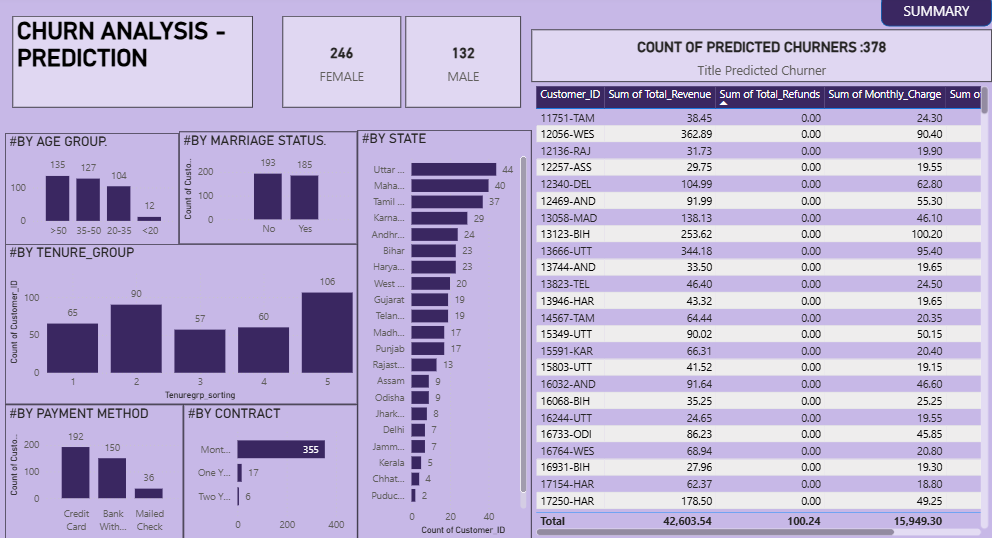

What the dashboard file says about the page in this screenshot:
{"tool":"powerbi","page":{"name":"Churn Prediction","canvas":[1280,720],"ordinal":1},"visuals":[{"type":"tableEx","fields":{"Values":["Predictions.Customer_ID","Sum(Predictions.Total_Revenue)","Sum(Predictions.Total_Refunds)","Sum(Predictions.Monthly_Charge)","Sum(Predictions.Number_of_Referrals)"]},"box":[686,109.6,580.2,576.4],"z":1},{"type":"card","fields":{"Values":["db_table_measures.Title Predicted Churner"]},"box":[686,43.5,580.2,66.1],"z":2},{"type":"card","fields":{"Values":["db_table_measures.Count Predicted Churners"]},"box":[372.3,26.5,149.3,115.3],"z":3},{"type":"card","fields":{"Values":["db_table_measures.Count Predicted Churners"]},"box":[527.2,26.5,145.5,115.3],"z":4},{"type":"clusteredColumnChart","title":"#BY AGE GROUP.","fields":{"Category":["mapping_Agegrp.Age Group"],"Y":["CountNonNull(Predictions.Customer_ID)"]},"box":[22.7,173.9,219.2,141.7],"z":5},{"type":"clusteredColumnChart","title":"#BY MARRIAGE STATUS.","fields":{"Category":["Predictions.Married"],"Y":["CountNonNull(Predictions.Customer_ID)"]},"box":[241.9,172,224.9,141.7],"z":6},{"type":"clusteredColumnChart","title":"#BY TENURE_GROUP","fields":{"Category":["mapping_Tenuregrp.Tenuregrp_sorting"],"Y":["CountNonNull(Predictions.Customer_ID)"]},"box":[22.7,313.7,444.1,202.2],"z":7},{"type":"clusteredColumnChart","title":"#BY PAYMENT METHOD","fields":{"Category":["Predictions.Payment_Method"],"Y":["CountNonNull(Predictions.Customer_ID)"]},"box":[22.7,515.9,224.9,170.1],"z":8},{"type":"clusteredBarChart","title":"#BY CONTRACT","fields":{"Category":["Predictions.Contract"],"Y":["CountNonNull(Predictions.Customer_ID)"]},"box":[247.6,515.9,219.2,170.1],"z":9},{"type":"clusteredBarChart","title":"#BY STATE","fields":{"Category":["Predictions.State"],"Y":["CountNonNull(Predictions.Customer_ID)"]},"box":[466.8,170.1,219.2,515.9],"z":10},{"type":"textbox","title":"CHURN ANALYSIS - PREDICTION","box":[32.1,26.5,302.4,115.3],"z":11},{"type":"shape","box":[1126.3,0,139.8,39.7],"z":12}]}

Visuals, with their boxes on the page's 1280x720 design canvas (x1, y1, x2, y2). These are canvas units, not pixel positions in the 992x538 screenshot, which may show the page scaled, cropped or inside an application window:
tableEx - Predictions.Customer_ID x Sum(Predictions.Total_Revenue): detection(686, 110, 1266, 686)
card - db_table_measures.Title Predicted Churner: detection(686, 44, 1266, 110)
card - db_table_measures.Count Predicted Churners: detection(372, 26, 522, 142)
card - db_table_measures.Count Predicted Churners: detection(527, 26, 673, 142)
"#BY AGE GROUP." clusteredColumnChart: detection(23, 174, 242, 316)
"#BY MARRIAGE STATUS." clusteredColumnChart: detection(242, 172, 467, 314)
"#BY TENURE_GROUP" clusteredColumnChart: detection(23, 314, 467, 516)
"#BY PAYMENT METHOD" clusteredColumnChart: detection(23, 516, 248, 686)
"#BY CONTRACT" clusteredBarChart: detection(248, 516, 467, 686)
"#BY STATE" clusteredBarChart: detection(467, 170, 686, 686)
"CHURN ANALYSIS - PREDICTION" textbox: detection(32, 26, 334, 142)
shape: detection(1126, 0, 1266, 40)
